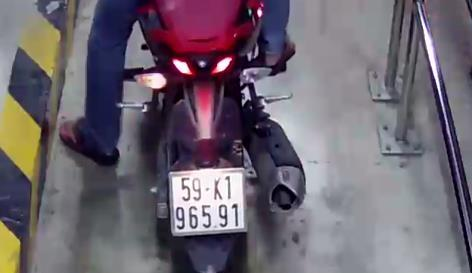lisence: (170, 168, 246, 235)
